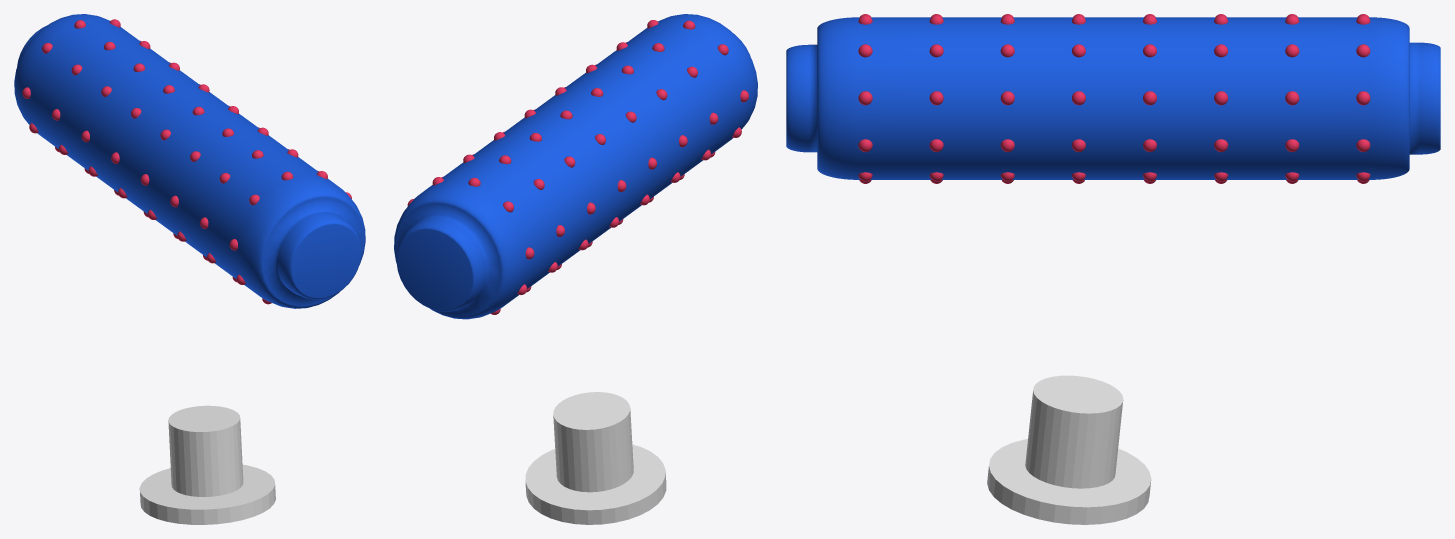
File: verticalHurdle.fbx
The picture shows the model from 3 angles, left to right: view 1: azimuth 30°, elevation 25°; view 2: azimuth 150°, elevation 25°; view 3: azimuth 270°, elevation 25°; orthographic projection. The views are drawn at different scales.
Visible parts, largest first — view 1: Cylinder, Cylinder.001, Cylinder.002; view 2: Cylinder, Cylinder.001, Cylinder.002; view 3: Cylinder, Cylinder.001, Cylinder.002.
Part boxes in pixels (x1,y1,x2,y2): Cylinder: (14,14,365,308); Cylinder.001: (168,405,243,496); Cylinder.002: (139,464,275,524); Cylinder: (394,14,757,319); Cylinder.001: (553,392,633,492); Cylinder.002: (525,444,666,524); Cylinder: (786,14,1440,183); Cylinder.001: (1025,375,1123,488); Cylinder.002: (987,439,1151,524).
Size of the model in its own units: 213 by 646 by 802.
